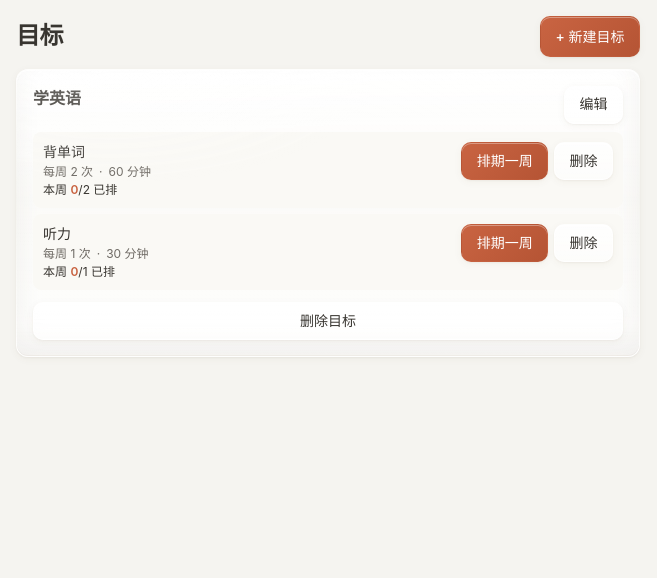
Test: GoalView › 放弃重新排丢弃预览且不入库
Expected: the heading "学英语" is shown, [33,86,81,110]
What coordinates should you click on to do the following:
click the button with test id "task-schedule-btn" in the row of "60"
I would click on:
 (505, 161)
Its box is [461,142,548,180].
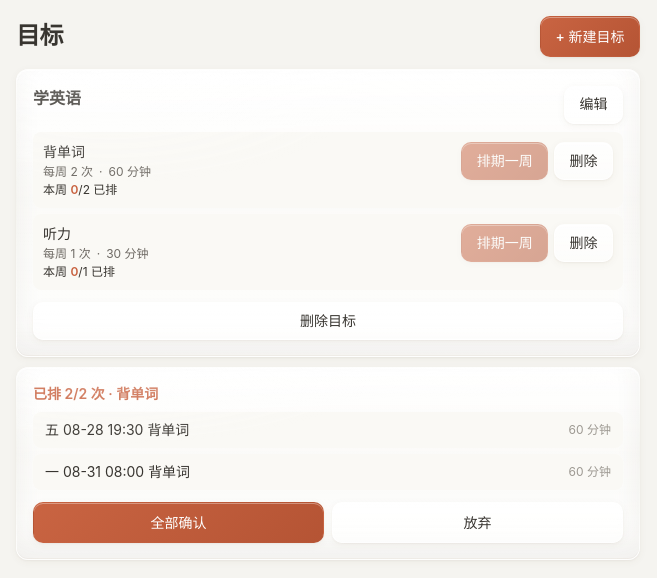
Expected: the element with test id "schedule-preview" is shown, [16,367,640,560]
What coordinates should you click on to do the following:
click the button "放弃"
I would click on:
 (478, 522)
Its box is [332,502,623,543].
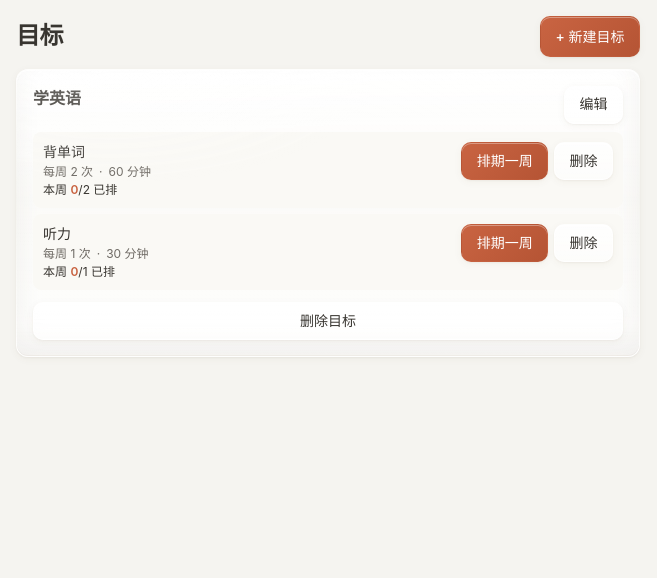
Expected: the element with test id "schedule-preview" is gone
